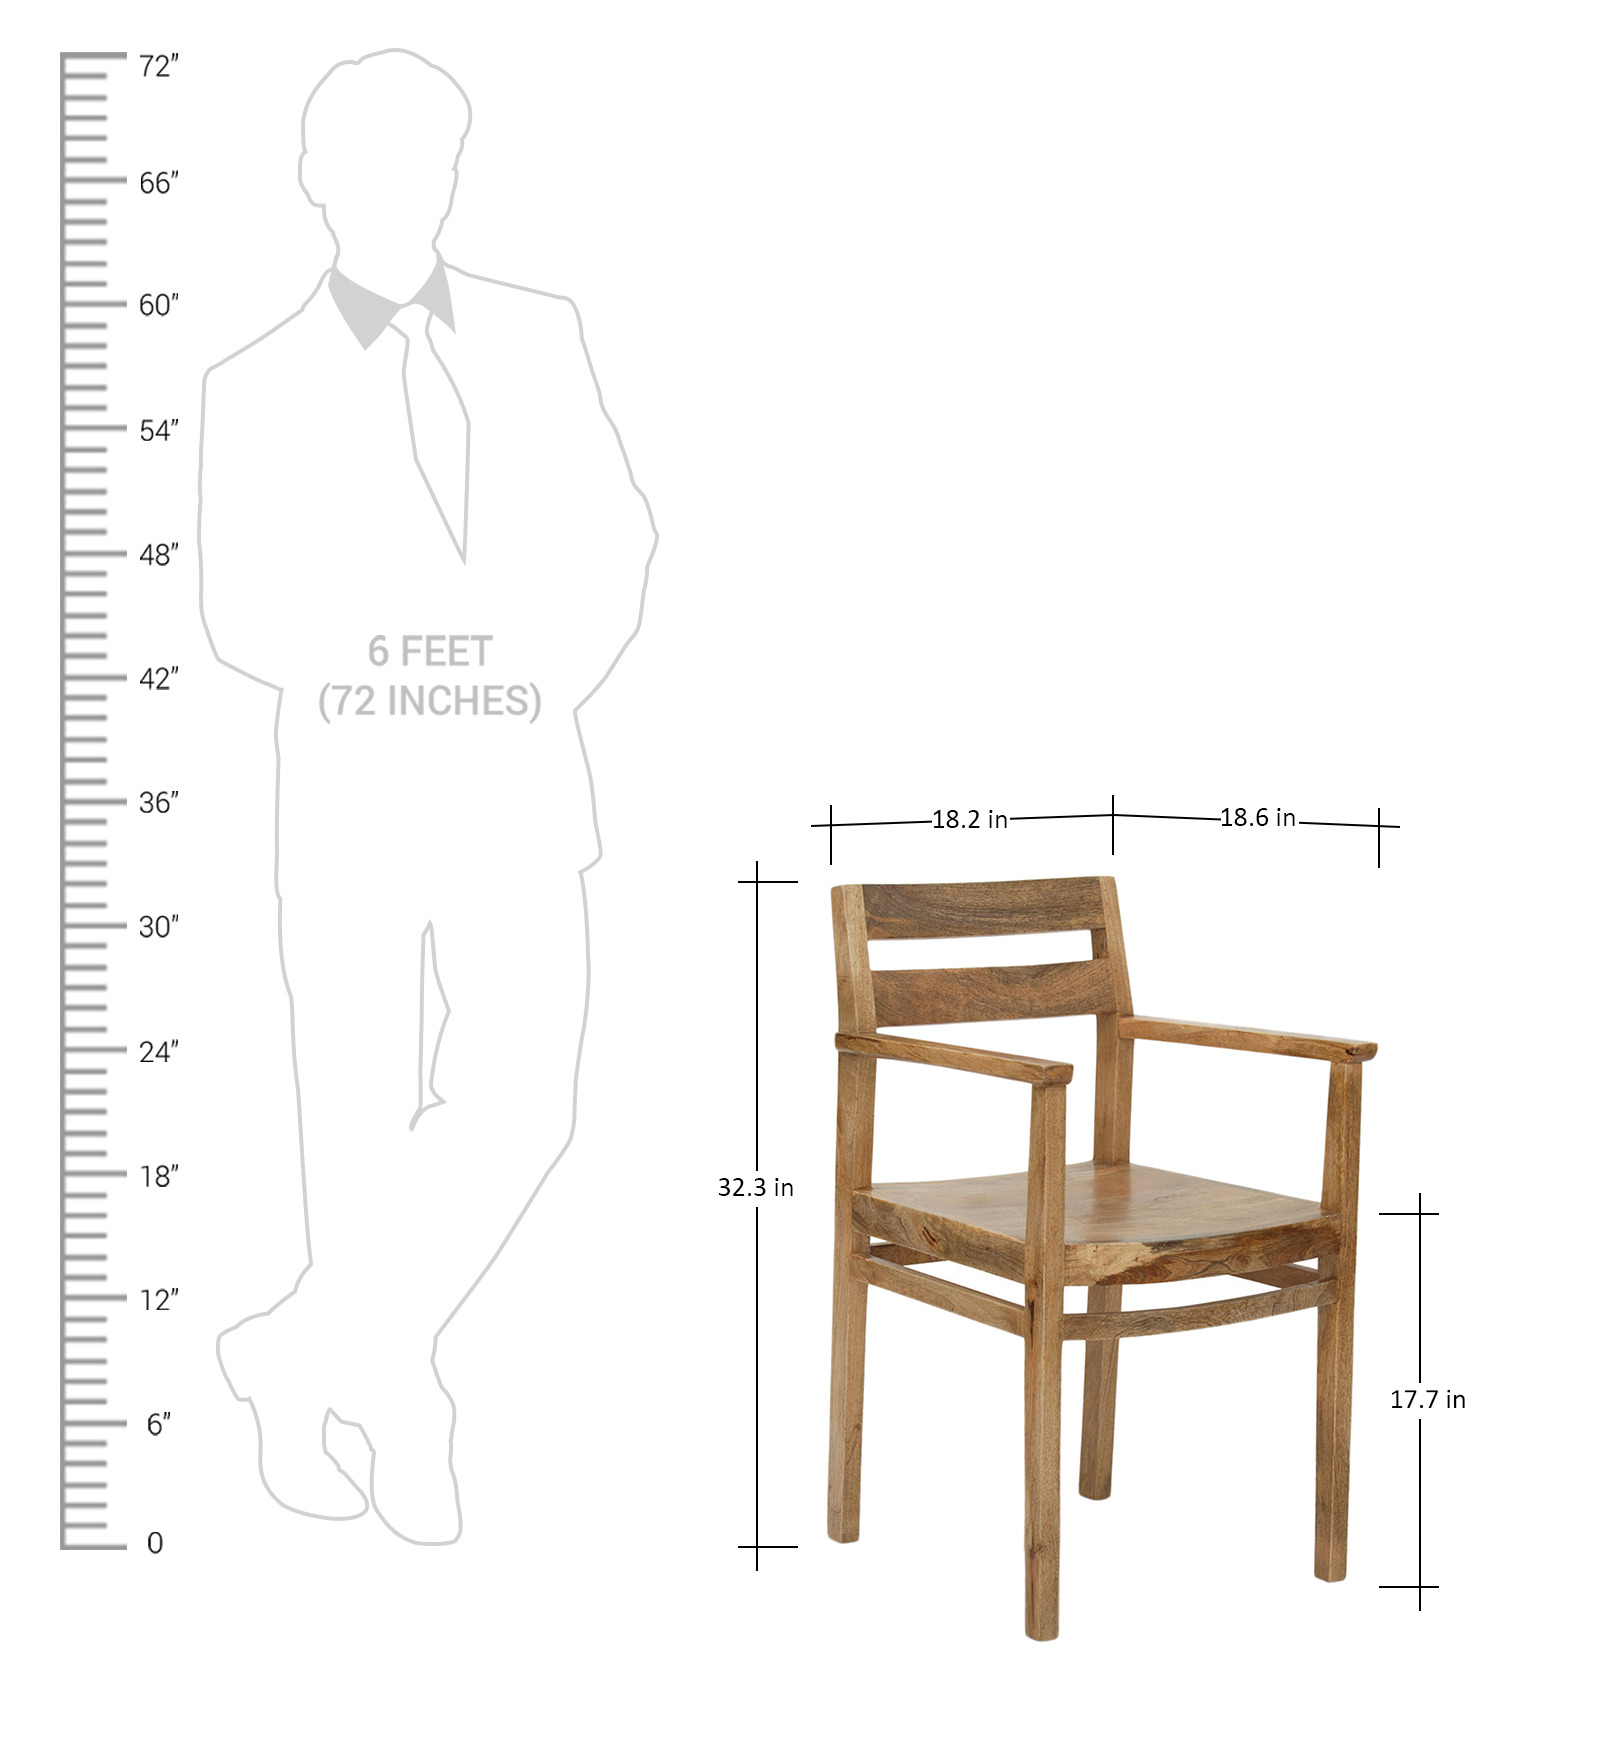Barcelona Solid Wood Arm Chair in Natural Finish by TheArmchair: (806, 859, 1390, 1643)
